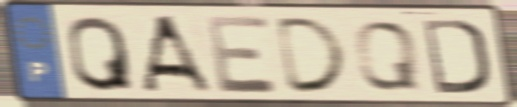A: (138, 13, 216, 95)
D: (274, 15, 353, 96), (419, 16, 492, 96)
E: (203, 13, 283, 96)
Q: (65, 13, 137, 94), (351, 18, 423, 93)
